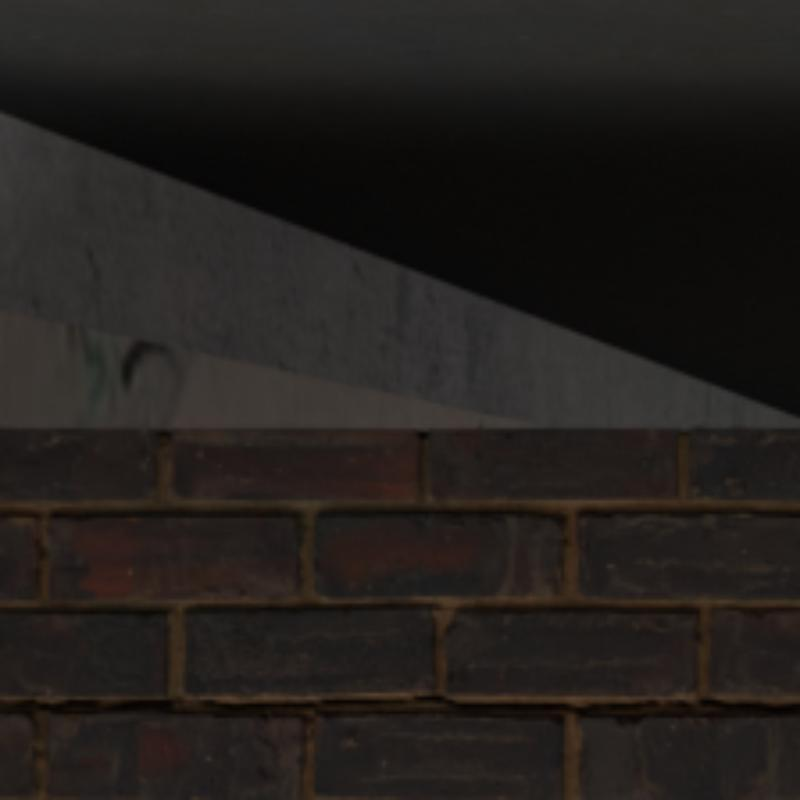pothole: (222, 693, 796, 707), (0, 700, 71, 707), (82, 701, 158, 707), (158, 700, 222, 703)
